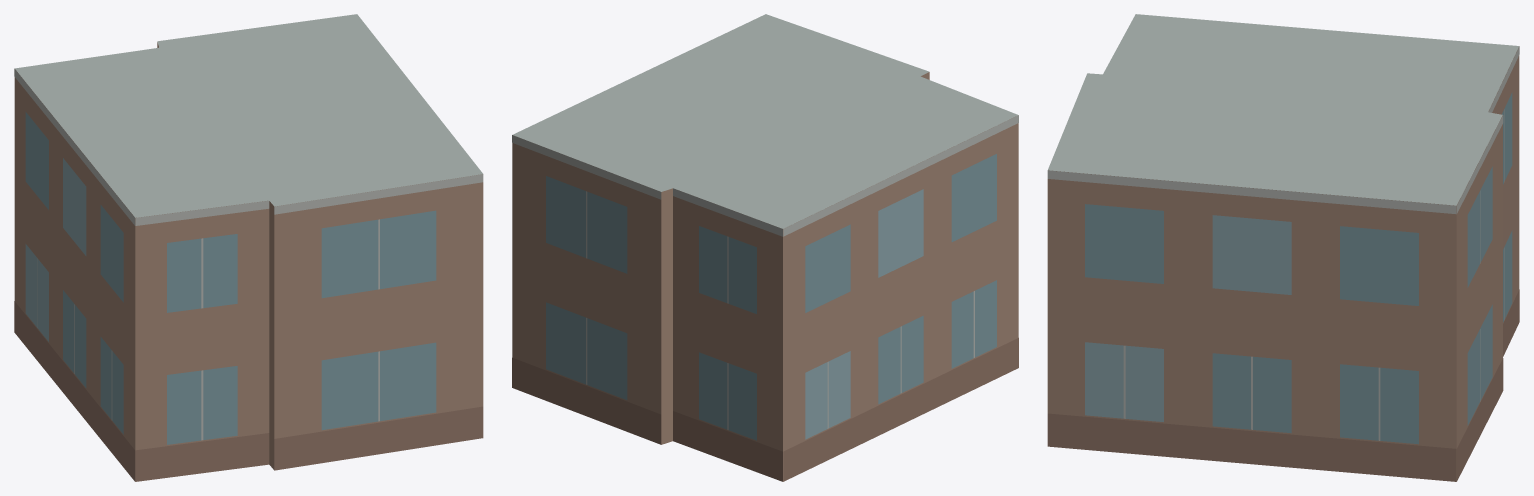
The model's file is survey-upis-32729232.glb.
3 renders of one model, left to right at view 1: azimuth 30°, elevation 25°; view 2: azimuth 150°, elevation 25°; view 3: azimuth 270°, elevation 25°, orthographic. The views are drawn at different scales.
Parts seen in each view (by area): view 1: survey-upis-32729232.tmp; view 2: survey-upis-32729232.tmp; view 3: survey-upis-32729232.tmp.
Boxes of the visible parts, x1,y1,x2,y2 form: survey-upis-32729232.tmp: (14,14,483,481); survey-upis-32729232.tmp: (512,14,1018,481); survey-upis-32729232.tmp: (1047,14,1519,481).
Bounding box in the file's own units: 11.69 × 7.85 × 12.16.
